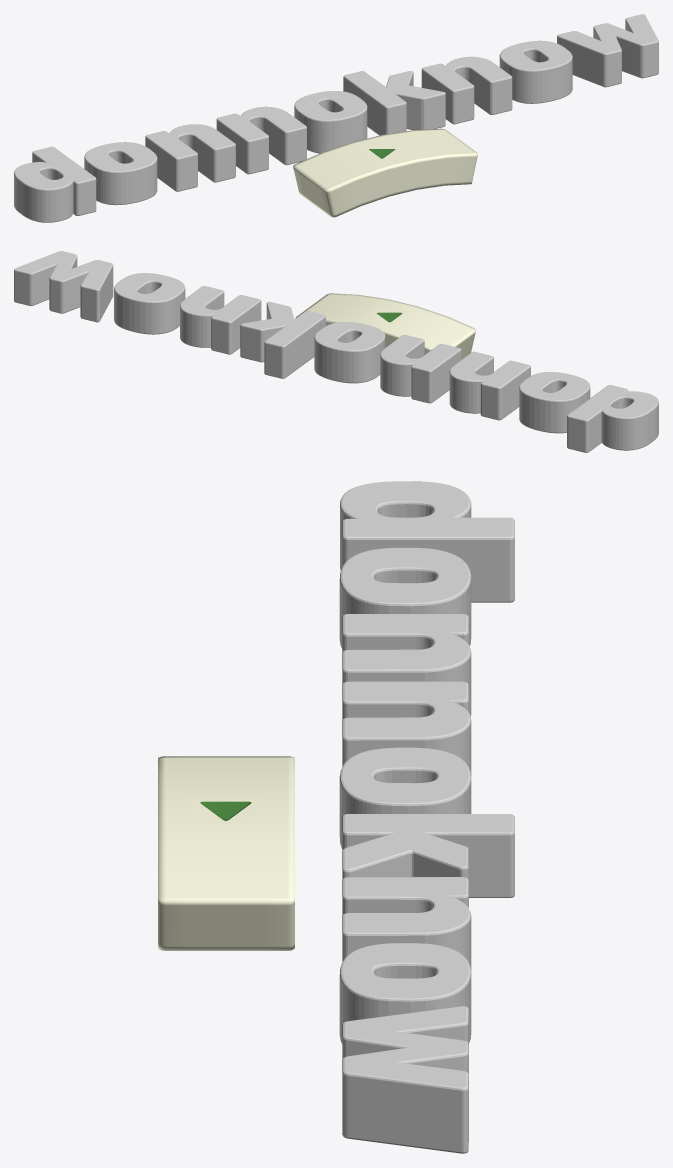
The model's file is title.glb.
3 views of the same model, one above another, from view 1: azimuth 30°, elevation 25°; view 2: azimuth 150°, elevation 25°; view 3: azimuth 270°, elevation 25° (orthographic). The views are drawn at different scales.
Visible parts, largest first — view 1: Text, playbtn; view 2: Text, playbtn; view 3: Text, playbtn.
Boxes of the visible parts, x1=… form: Text: x1=14, y1=14, x2=658, y2=222; playbtn: x1=293, y1=128, x2=477, y2=217; Text: x1=14, y1=251, x2=658, y2=452; playbtn: x1=295, y1=293, x2=476, y2=359; Text: x1=339, y1=481, x2=514, y2=1153; playbtn: x1=158, y1=756, x2=294, y2=950.
Size of the model in its own units: 3.63 by 0.2796 by 0.9002.
1 material, 1 textured.
